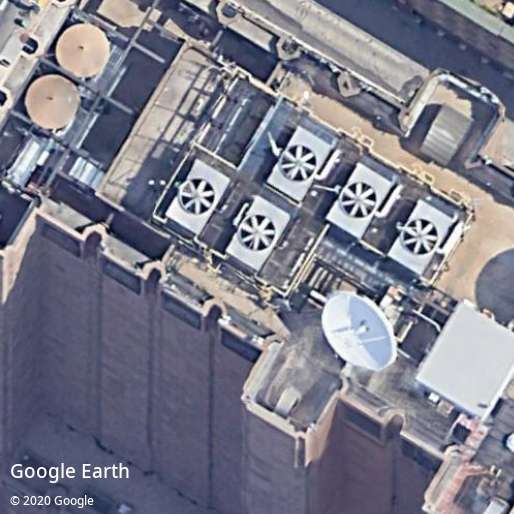Vent: (178, 179, 215, 215), (280, 145, 316, 181), (402, 219, 438, 255), (241, 215, 276, 251), (342, 183, 377, 218)
